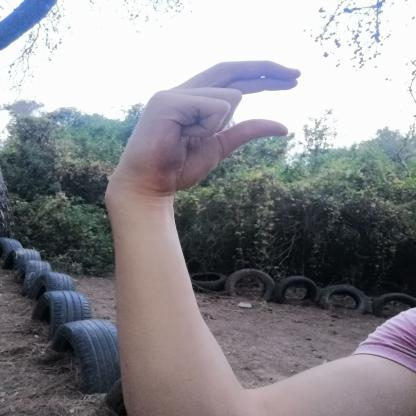DHELL: (95, 48, 314, 208)
